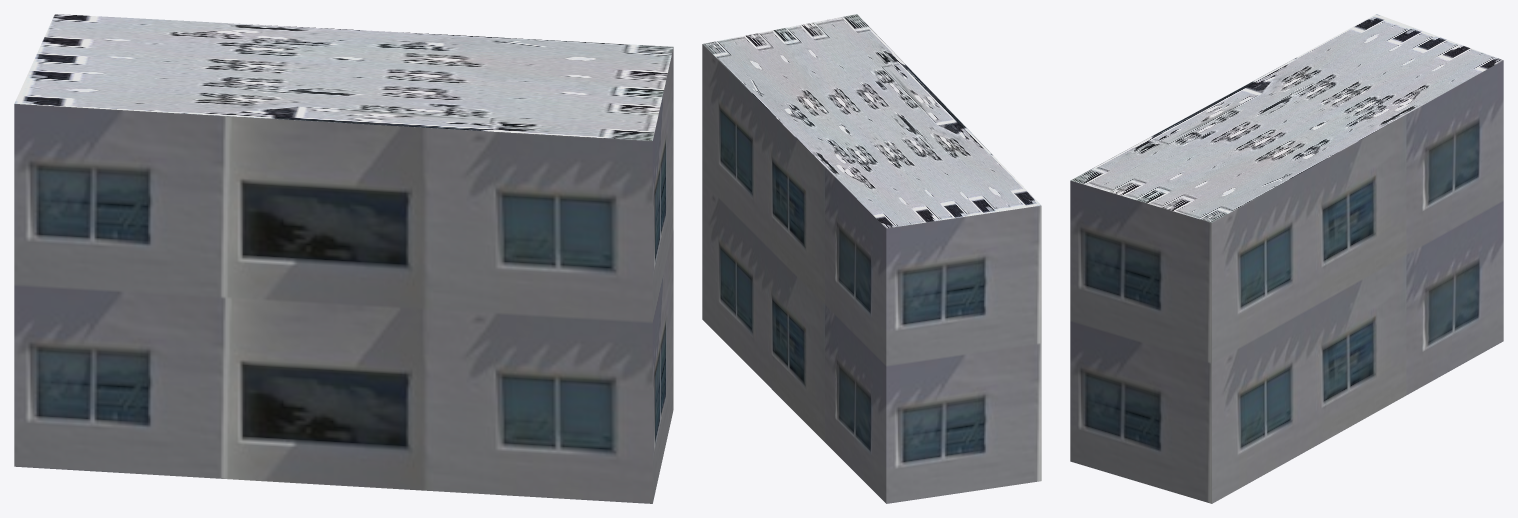
The model's file is ResTex__5186.fbx.
3 views of the same model, side by side, from view 1: azimuth 30°, elevation 25°; view 2: azimuth 150°, elevation 25°; view 3: azimuth 270°, elevation 25° (orthographic). The views are drawn at different scales.
Visible parts, largest first — view 1: CityEngineMaterial_10_m, CityEngineMaterial_8_m; view 2: CityEngineMaterial_10_m, CityEngineMaterial_8_m; view 3: CityEngineMaterial_10_m, CityEngineMaterial_8_m.
Boxes of the visible parts, box(x1,y1,x2,y2) form: CityEngineMaterial_10_m: box(14, 47, 673, 503); CityEngineMaterial_8_m: box(14, 14, 673, 140); CityEngineMaterial_10_m: box(702, 44, 1041, 503); CityEngineMaterial_8_m: box(703, 14, 1040, 228); CityEngineMaterial_10_m: box(1070, 60, 1503, 503); CityEngineMaterial_8_m: box(1070, 14, 1503, 222).
Bounding box in the file's own units: 9.57 × 6 × 8.38.
Materials: 2 (2 with a texture image).
